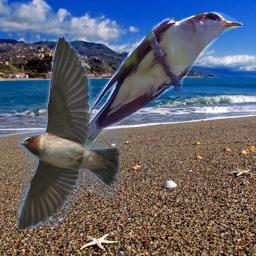Cuckoo: (52, 11, 243, 176)
Swallow: (17, 35, 121, 231)
